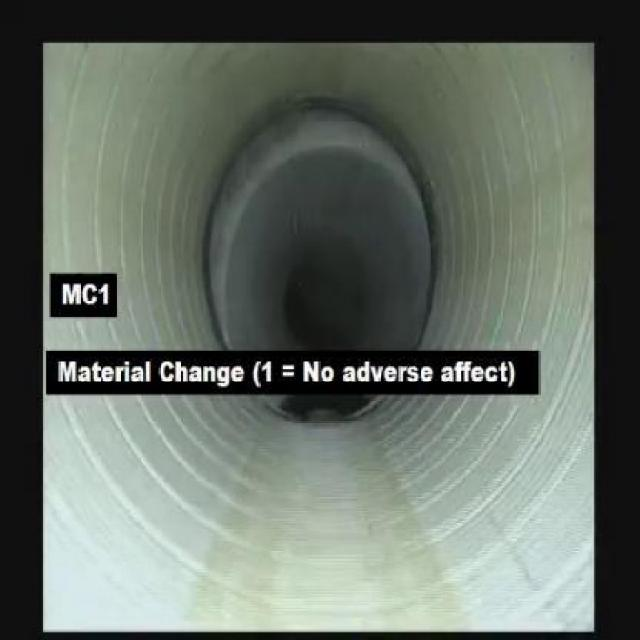Joint offset: (266, 90, 443, 224), (196, 96, 264, 350)
